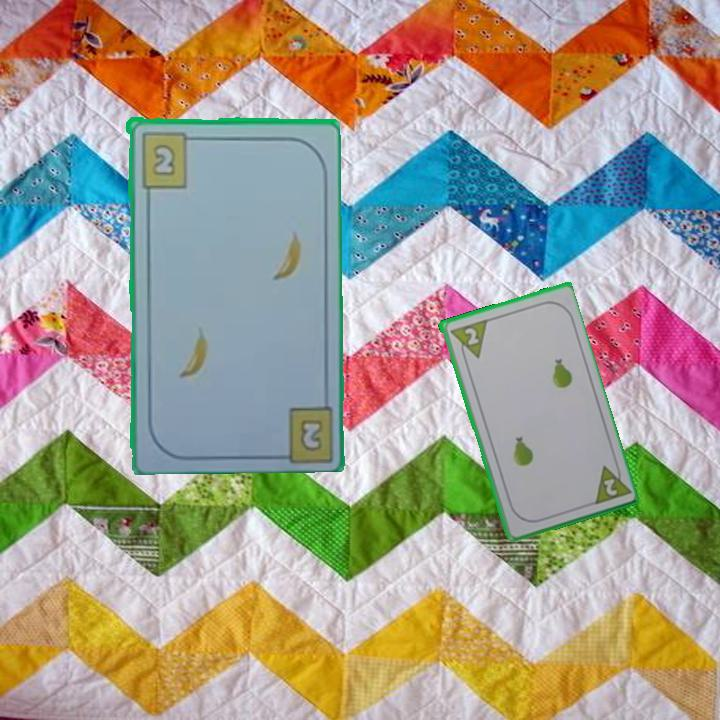2b: (137, 128, 199, 190), (296, 415, 325, 454)
2p: (599, 474, 620, 499), (460, 324, 481, 348)
